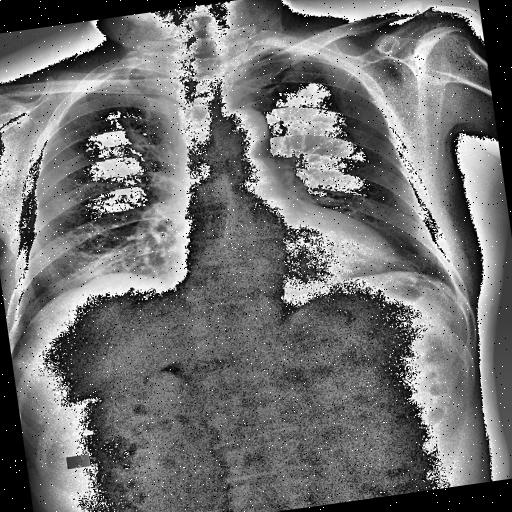0- Aortic enlargement: (208, 106, 272, 158), (220, 104, 272, 166), (219, 104, 271, 146)
11- Pleural thickening: (237, 40, 330, 69), (84, 65, 164, 88)
13- Pulmonary fibrosis: (116, 112, 149, 152), (120, 117, 152, 156)
3- Cardiomegaly: (174, 218, 403, 312), (178, 204, 402, 299), (173, 222, 399, 308)
